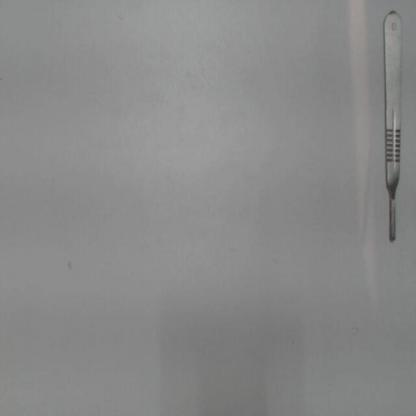No.4 BP Handle: (376, 7, 408, 250)
